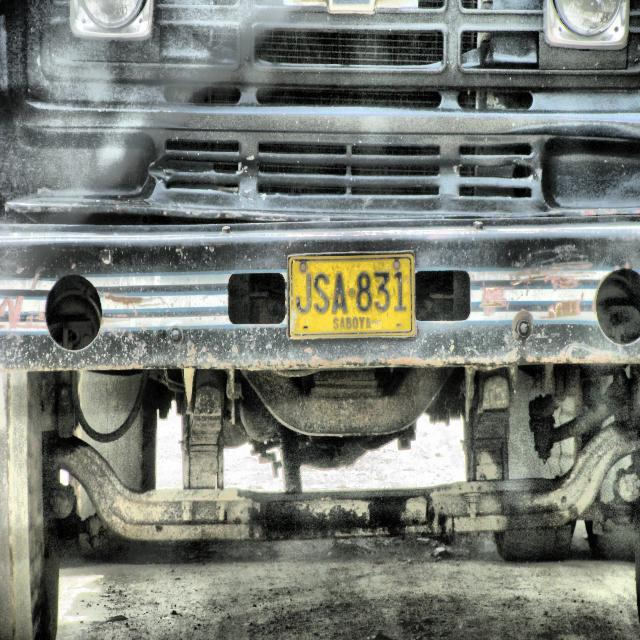plate: (287, 251, 416, 341)
